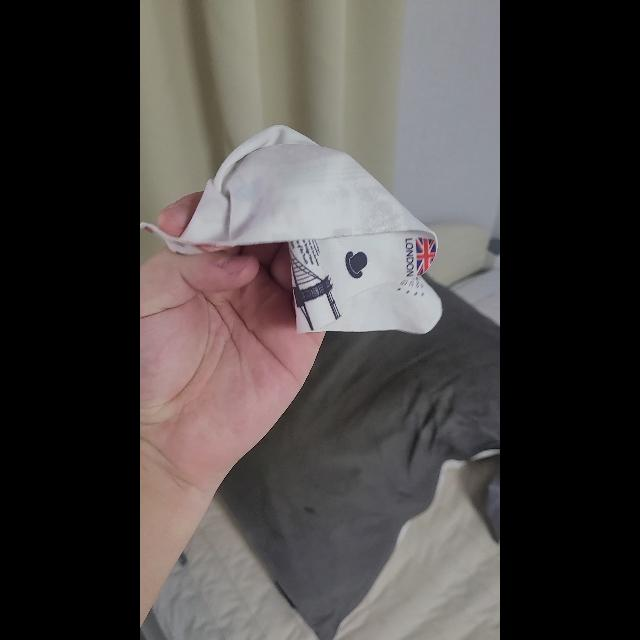Glasses cleaning cloth: (140, 125, 444, 335)
